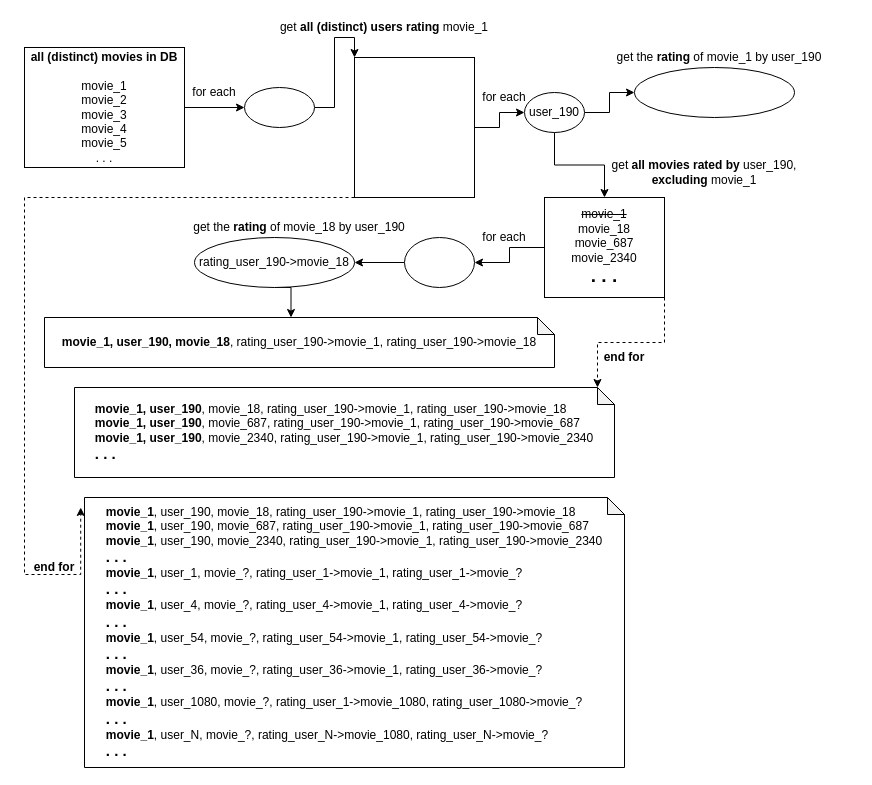
This 872x785 diagram has some shape labels left out. The shapes that lost their labels are listed below. From the top down, each one's box as (x1, y1, x2, y2) in pixels, then its label:
(244, 86, 314, 128): movie_1
(634, 66, 794, 118): rating_user_190->movie_1
(354, 56, 474, 198): user_1 user_4 user_54 user_36 user_190 user_1080 . . . user_N
(404, 236, 474, 288): movie_18
